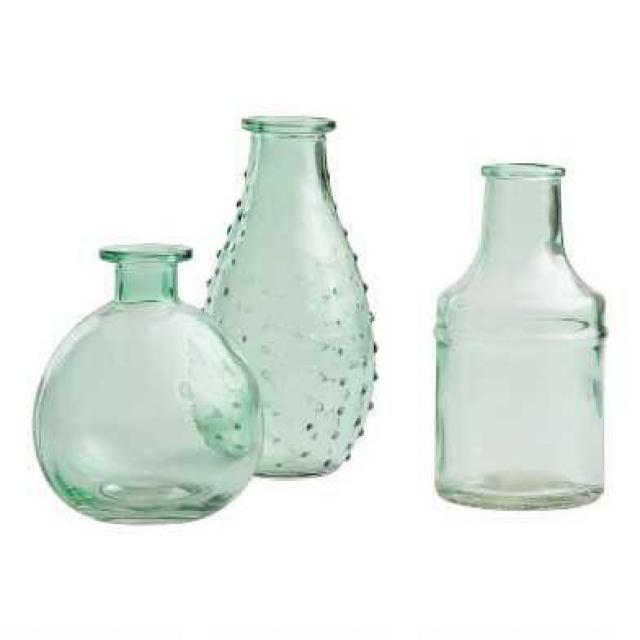non-organic waste: (24, 238, 268, 526), (427, 149, 610, 512)
